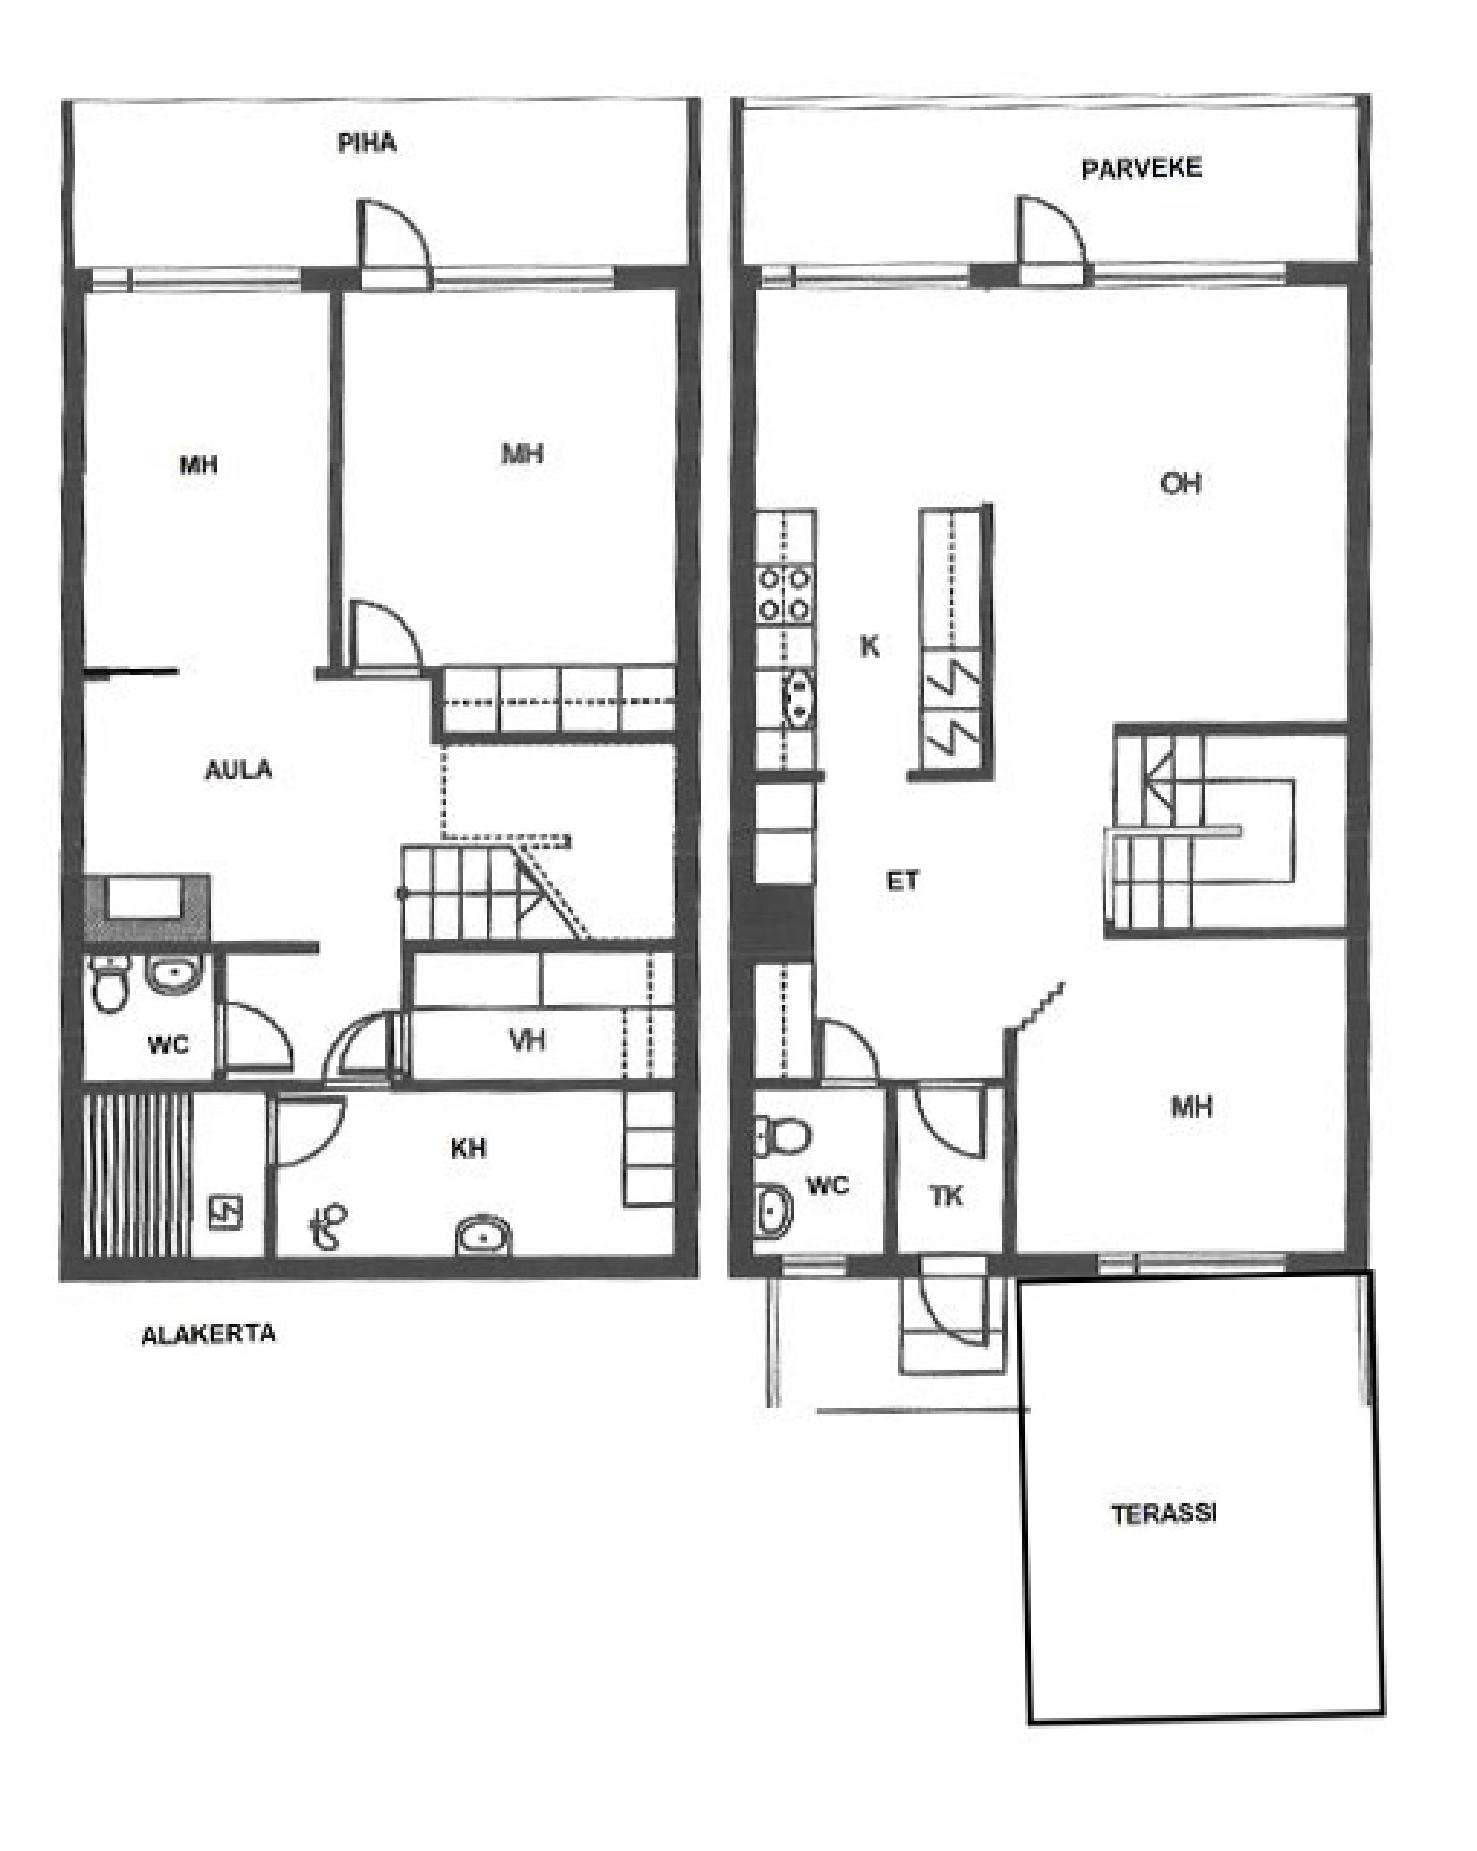door: (910, 1250, 990, 1348), (1016, 194, 1090, 286), (353, 194, 427, 283), (265, 1090, 345, 1171), (323, 1017, 417, 1079), (912, 1085, 990, 1158), (214, 1008, 295, 1075), (351, 606, 427, 672), (815, 1016, 879, 1085)
window: (87, 268, 295, 292), (1094, 261, 1278, 288), (430, 261, 612, 288), (766, 267, 965, 288), (1099, 1250, 1278, 1271), (784, 1256, 836, 1277)
zone: (755, 288, 1341, 1253), (81, 292, 672, 1072), (1019, 1283, 1381, 1720), (345, 283, 671, 663), (69, 98, 678, 265), (743, 112, 1367, 258), (271, 1088, 668, 1253), (414, 951, 671, 1079), (81, 1090, 259, 1263), (775, 1280, 1011, 1408), (754, 1094, 880, 1251), (898, 1085, 998, 1251), (81, 951, 209, 1072)
